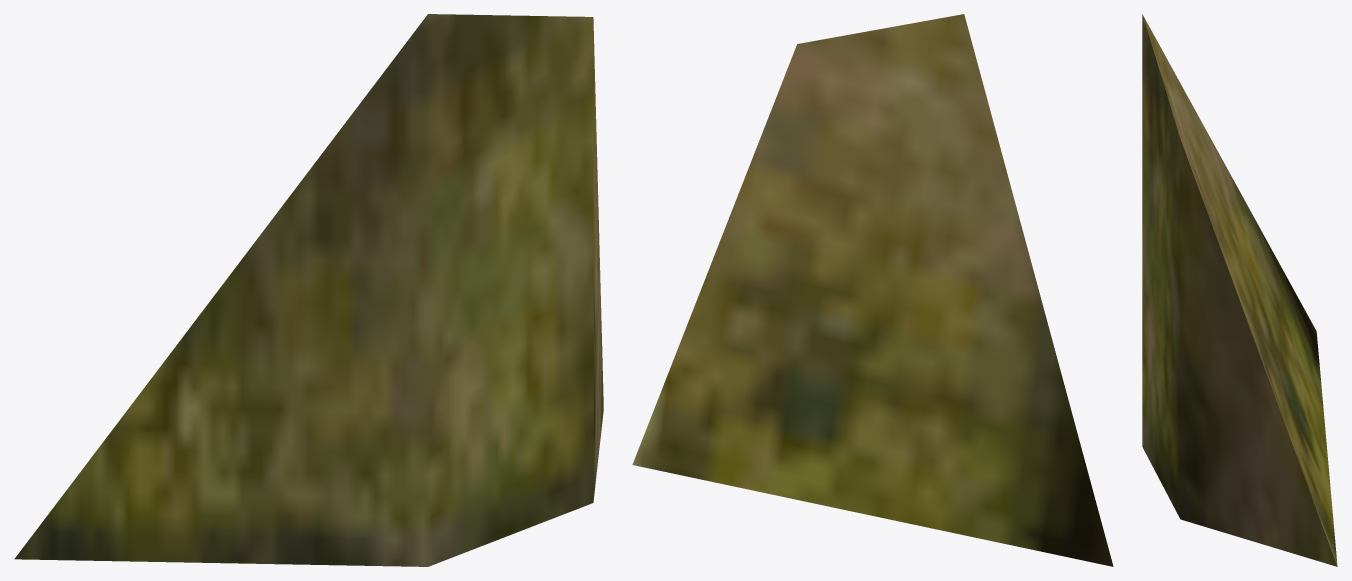
Rendered from OVERHILL_A_01_OBJECT190.fbx.
3 renders of one model, left to right at view 1: azimuth 30°, elevation 25°; view 2: azimuth 150°, elevation 25°; view 3: azimuth 270°, elevation 25°, orthographic. The views are drawn at different scales.
Parts seen in each view (by area): view 1: OVERHILL_A_01_OBJECT190; view 2: OVERHILL_A_01_OBJECT190; view 3: OVERHILL_A_01_OBJECT190.
Part boxes in pixels (x1,y1,x2,y2): OVERHILL_A_01_OBJECT190: [14, 14, 603, 566]; OVERHILL_A_01_OBJECT190: [632, 14, 1113, 566]; OVERHILL_A_01_OBJECT190: [1142, 14, 1337, 566].
Size of the model in its own units: 8430 by 7477 by 3018.
Materials: 1 (1 with a texture image).
